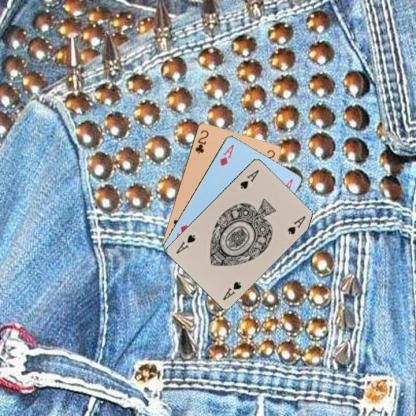2c: (192, 127, 210, 155)
Ad: (217, 142, 235, 167)
As: (238, 167, 260, 190), (220, 279, 243, 301)
